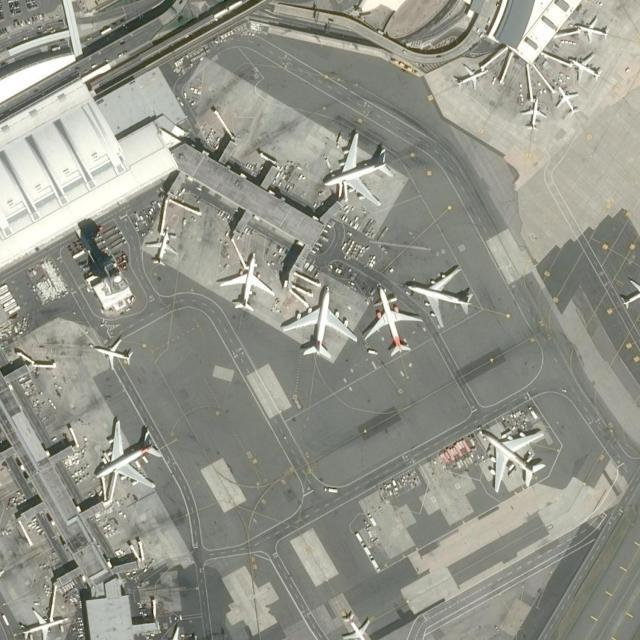Aircraft: (279, 285, 355, 361), (320, 128, 392, 208), (87, 419, 162, 491), (405, 260, 476, 328), (479, 424, 546, 492), (364, 284, 420, 357), (219, 250, 277, 314), (18, 606, 68, 640), (91, 336, 135, 370), (567, 49, 604, 84), (143, 231, 178, 266), (454, 60, 491, 91), (516, 95, 548, 129), (574, 15, 612, 43), (338, 609, 372, 640), (552, 83, 582, 115), (149, 624, 200, 640), (620, 275, 640, 308)
